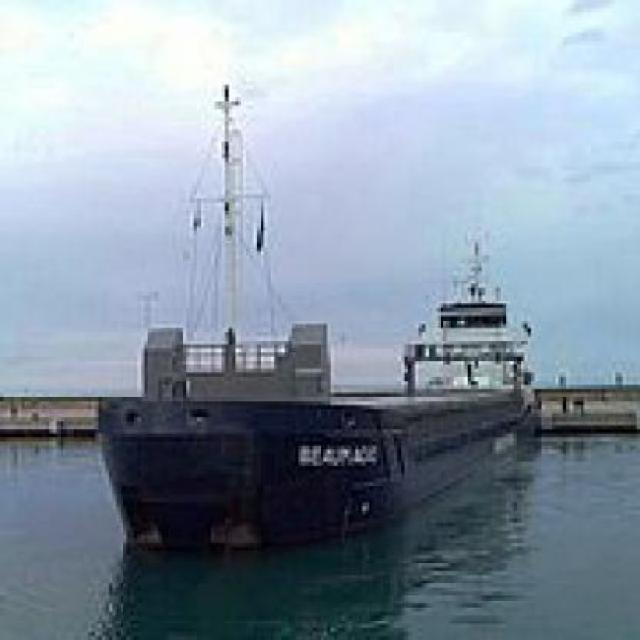container: (93, 220, 547, 557)
